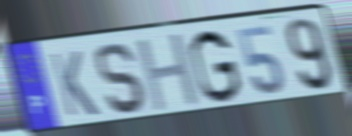5: (235, 22, 286, 97)
9: (284, 16, 333, 93)
G: (187, 28, 243, 106)
H: (134, 30, 204, 115)
K: (47, 49, 102, 119)
S: (95, 40, 150, 116)
